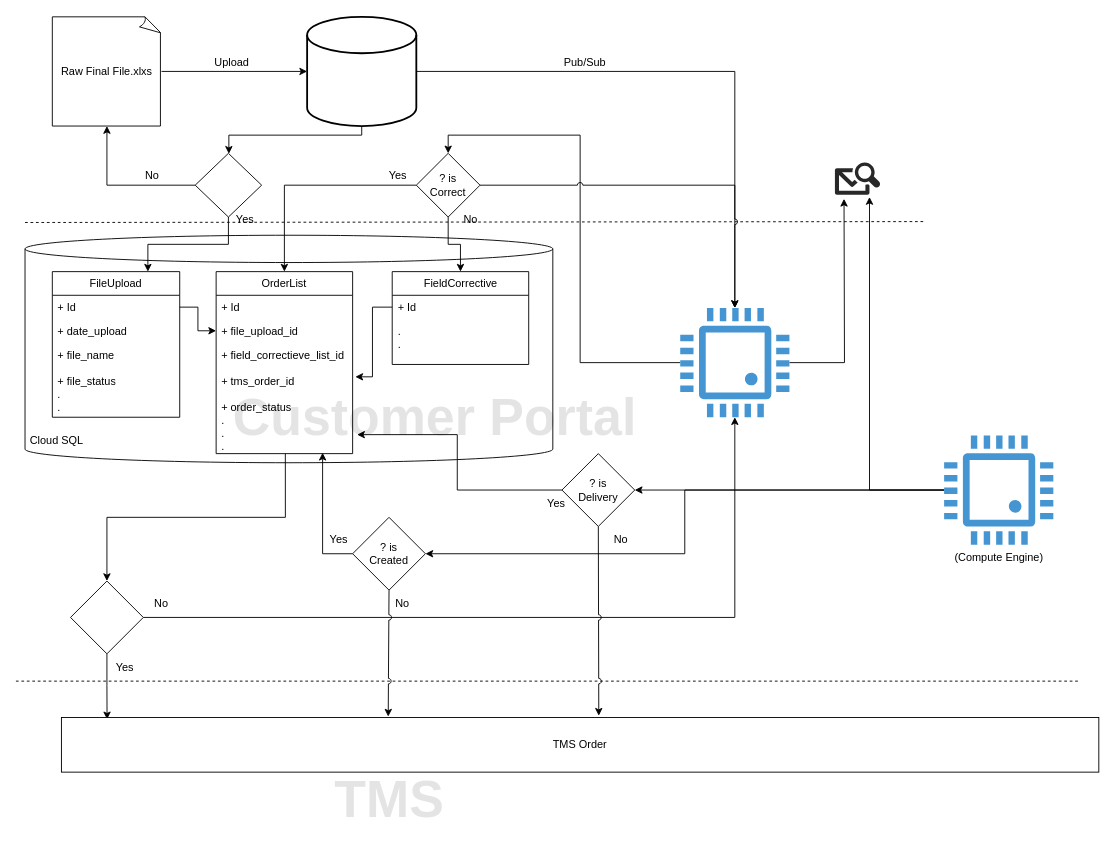
The diagram is 1115 pixels wide and 851 high, and some of its shapes have lost their labels. The shapes that lost their labels are listed below. From the top down, each one's centre as x and y in pixels, then its label:
the point at 361,70: Google Cloud Storage
the point at 228,184: ? is Success
the point at 734,362: Field Correction (Compute Engine)
the point at 106,617: ? is Ready
